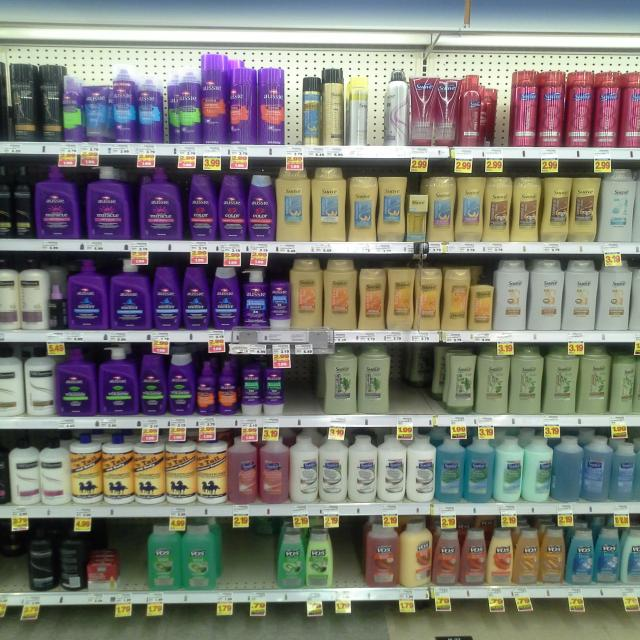empty: (220, 512, 275, 594), (273, 356, 330, 419), (108, 522, 145, 593), (331, 521, 360, 588), (389, 343, 408, 424)
